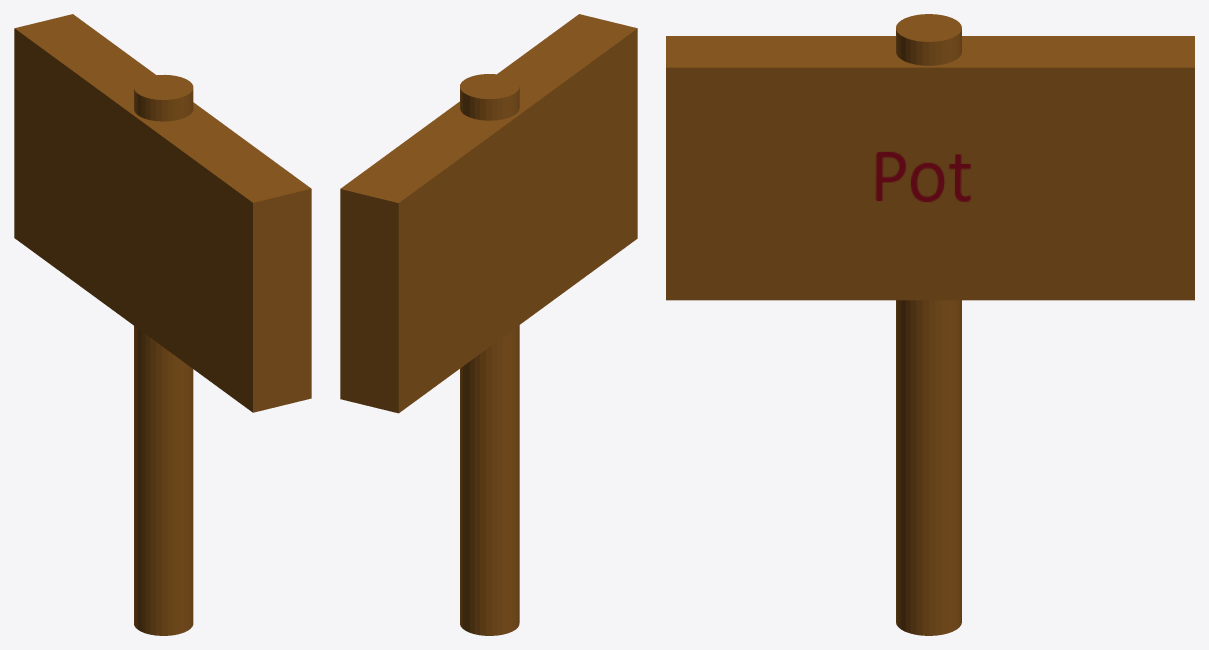
Rendered from signPot.fbx.
The picture shows the model from 3 angles, left to right: view 1: azimuth 30°, elevation 25°; view 2: azimuth 150°, elevation 25°; view 3: azimuth 270°, elevation 25°; orthographic projection. The views are drawn at different scales.
Visible parts, largest first — view 1: Cube.006, Cylinder.006; view 2: Cube.006, Cylinder.006; view 3: Cube.006, Cylinder.006.
Boxes of the visible parts, x1=… form: Cube.006: x1=14, y1=14, x2=311, y2=412; Cylinder.006: x1=134, y1=74, x2=193, y2=635; Cube.006: x1=340, y1=14, x2=637, y2=413; Cylinder.006: x1=460, y1=74, x2=519, y2=635; Cube.006: x1=666, y1=36, x2=1194, y2=300; Cylinder.006: x1=896, y1=14, x2=961, y2=635.
Bounding box in the file's own units: 4.12 × 0.5827 × 5.11.
Materials: 2 (1 with a texture image).
